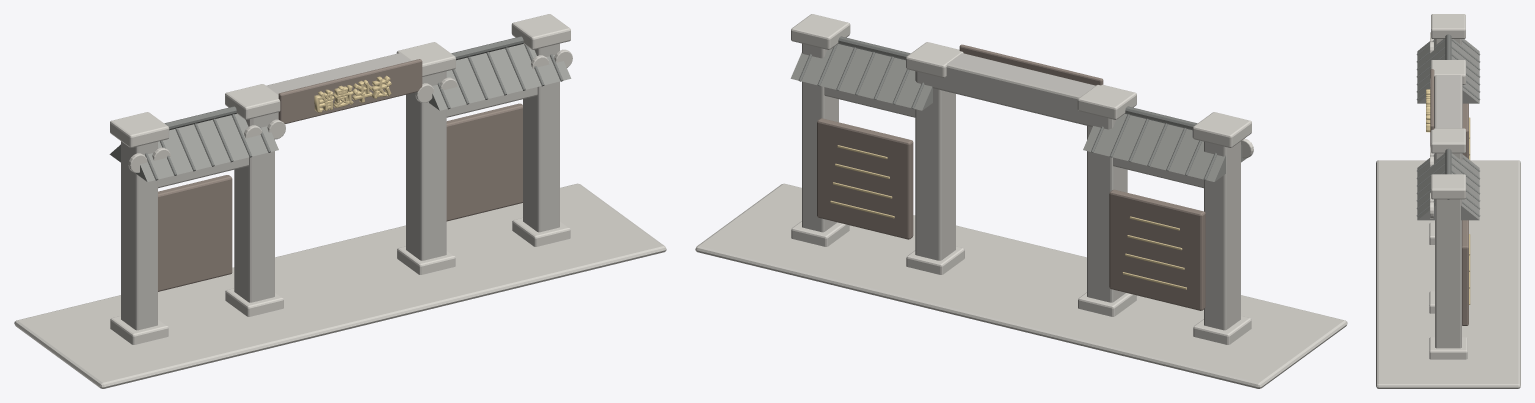
File: fahua-heritage.glb
3 views of the same model, side by side, from view 1: azimuth 30°, elevation 25°; view 2: azimuth 150°, elevation 25°; view 3: azimuth 270°, elevation 25° (orthographic). The views are drawn at different scales.
Parts seen in each view (by area): view 1: fahua-heritage; view 2: fahua-heritage; view 3: fahua-heritage.
Part boxes in pixels (box(x1,y1,x2,y2)): fahua-heritage: box(14, 14, 666, 388); fahua-heritage: box(695, 14, 1347, 388); fahua-heritage: box(1376, 14, 1520, 388).
Size of the model in its own units: 15.5 by 5.76 by 4.2.
